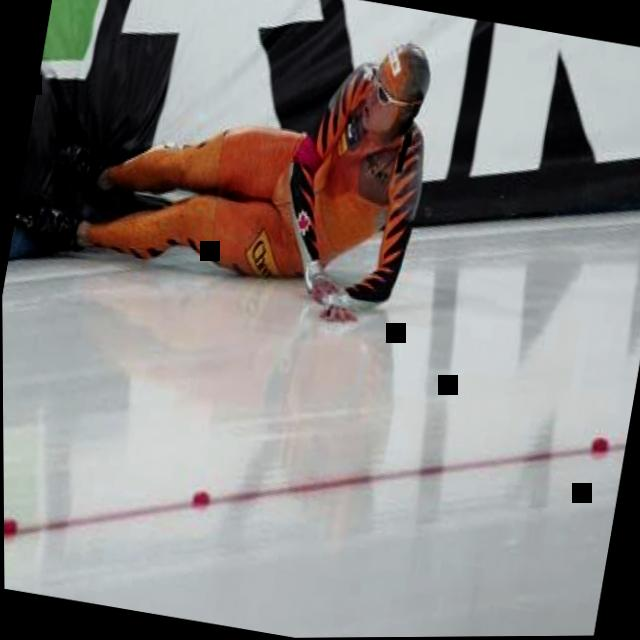Fall-Detected: (4, 0, 456, 338)
